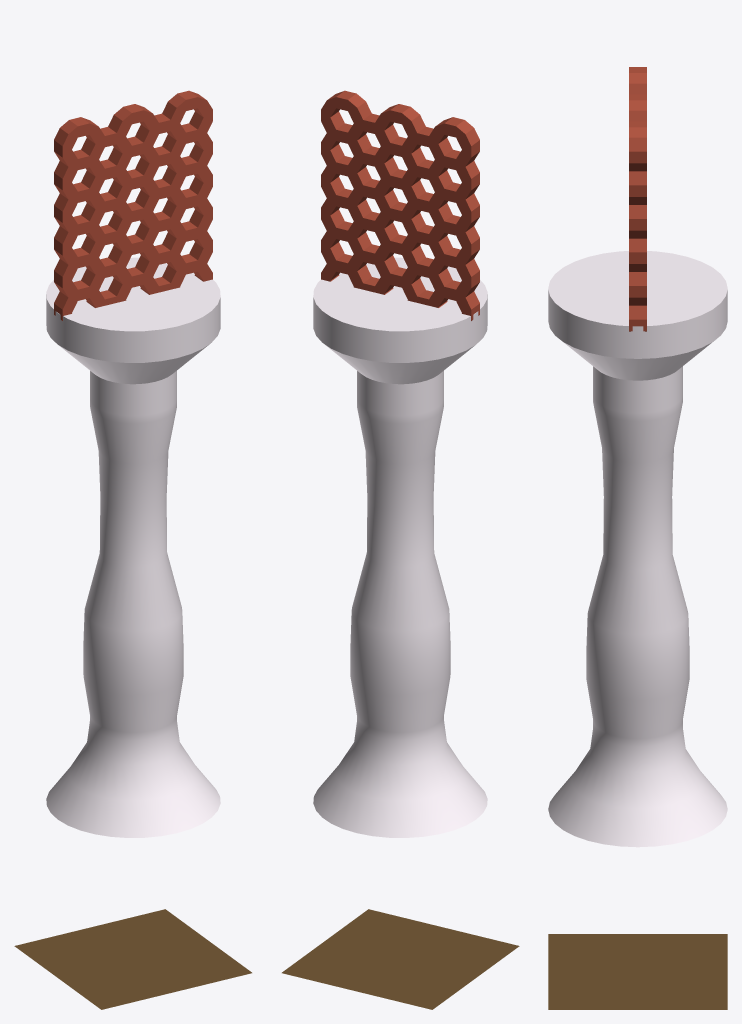
The model's file is Fence-Atl.fbx.
The picture shows the model from 3 angles, left to right: view 1: azimuth 30°, elevation 25°; view 2: azimuth 150°, elevation 25°; view 3: azimuth 270°, elevation 25°; orthographic projection. The views are drawn at different scales.
Parts seen in each view (by area): view 1: Fence, HoneyComb.002, Cube.043; view 2: Fence, HoneyComb.002, Cube.043; view 3: Fence, Cube.043, HoneyComb.002.
Part boxes in pixels (bbox=[...]): Fence: bbox=[46, 257, 220, 837]; HoneyComb.002: bbox=[54, 90, 212, 320]; Cube.043: bbox=[14, 909, 251, 1009]; Fence: bbox=[313, 257, 487, 837]; HoneyComb.002: bbox=[321, 90, 479, 320]; Cube.043: bbox=[282, 909, 519, 1009]; Fence: bbox=[548, 251, 727, 847]; Cube.043: bbox=[548, 934, 727, 1009]; HoneyComb.002: bbox=[629, 67, 646, 331].
Size of the model in its own units: 20 by 113 by 20.
